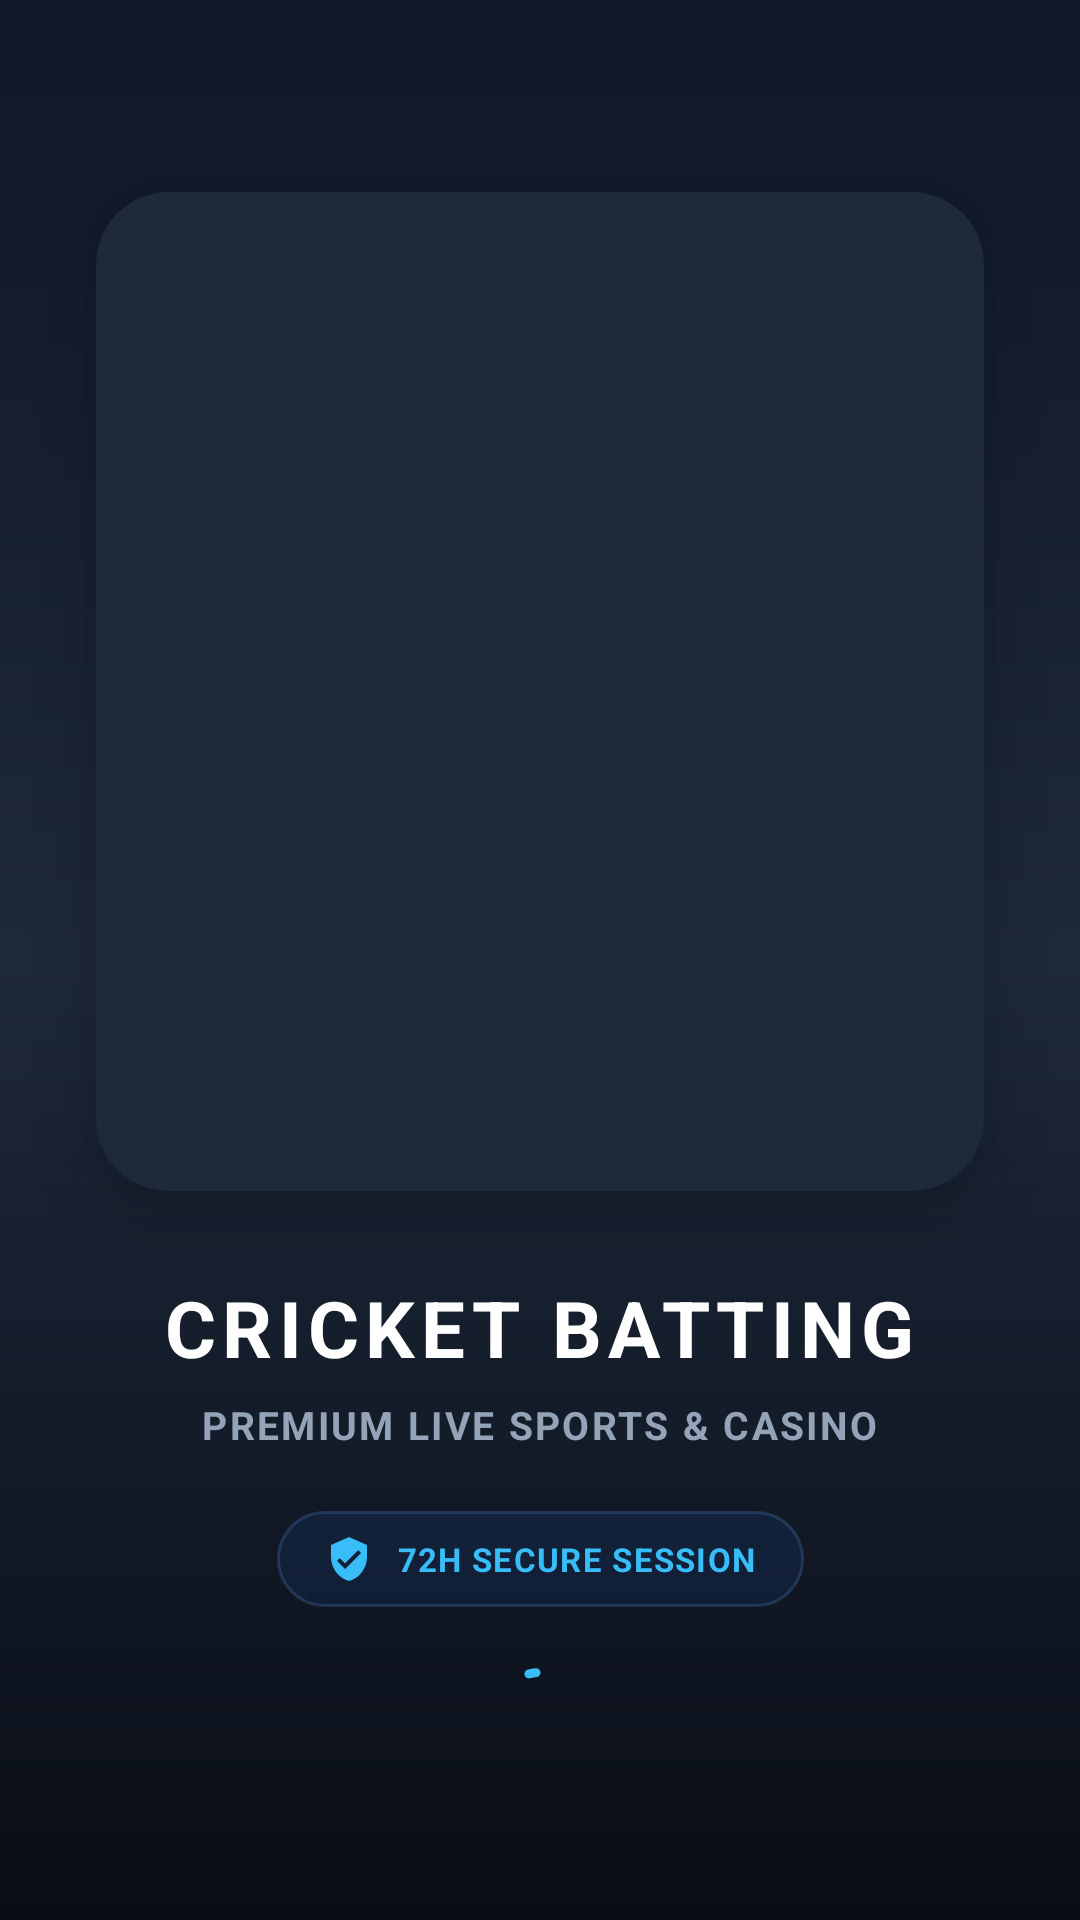

Where icons sit on this 1080x1920 app screen, as (left=x1, top=y1, right=x2, bottom=y2):
security: (left=331, top=1537, right=367, bottom=1581)
